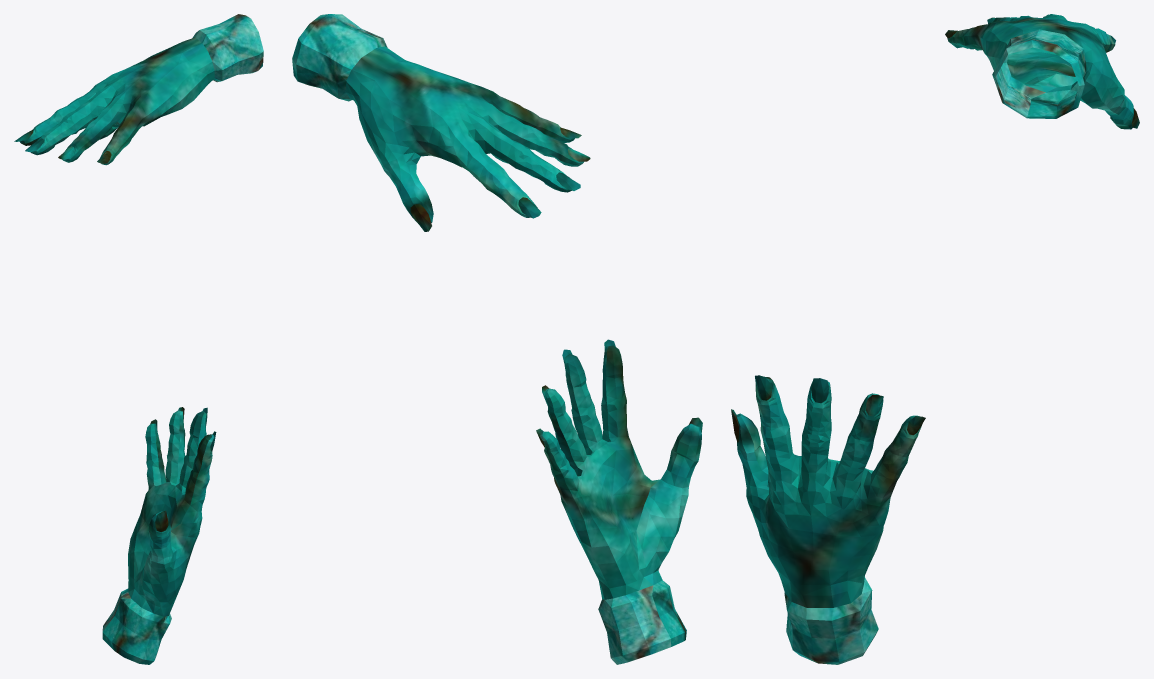
File: hands.FBX
3 views of the same model, side by side, from view 1: azimuth 30°, elevation 25°; view 2: azimuth 150°, elevation 25°; view 3: azimuth 270°, elevation 25° (orthographic). The views are drawn at different scales.
Parts seen in each view (by area): view 1: sdef:FaBody001, sdef:FaBody; view 2: sdef:FaBody001, sdef:FaBody; view 3: sdef:FaBody001, sdef:FaBody.
Part boxes in pixels (x1,y1,x2,y2): sdef:FaBody001: (102, 407, 216, 664); sdef:FaBody: (14, 14, 263, 165); sdef:FaBody001: (536, 339, 702, 664); sdef:FaBody: (292, 14, 590, 231); sdef:FaBody001: (731, 375, 925, 664); sdef:FaBody: (945, 14, 1139, 129).
Size of the model in its own units: 3.14 by 7.16 by 3.59.
Materials: 1 (1 with a texture image).
